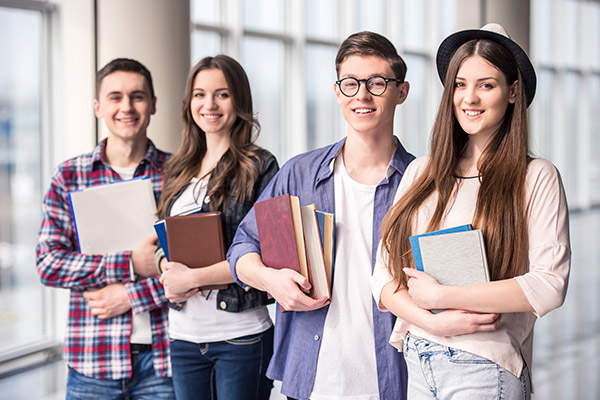Person: (412, 20, 570, 393), (279, 29, 400, 393), (50, 55, 179, 387), (173, 58, 265, 381)
